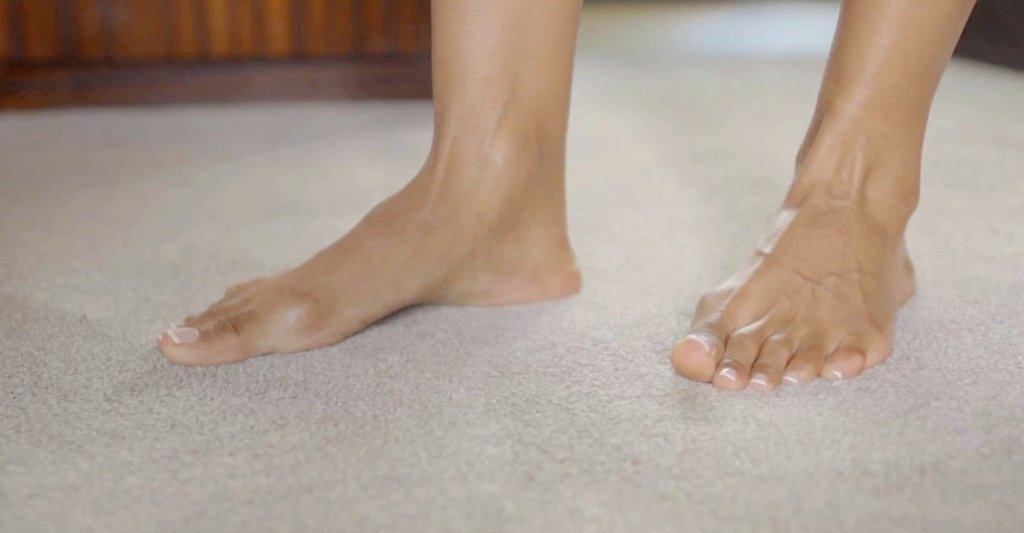feet: (131, 159, 767, 368)
